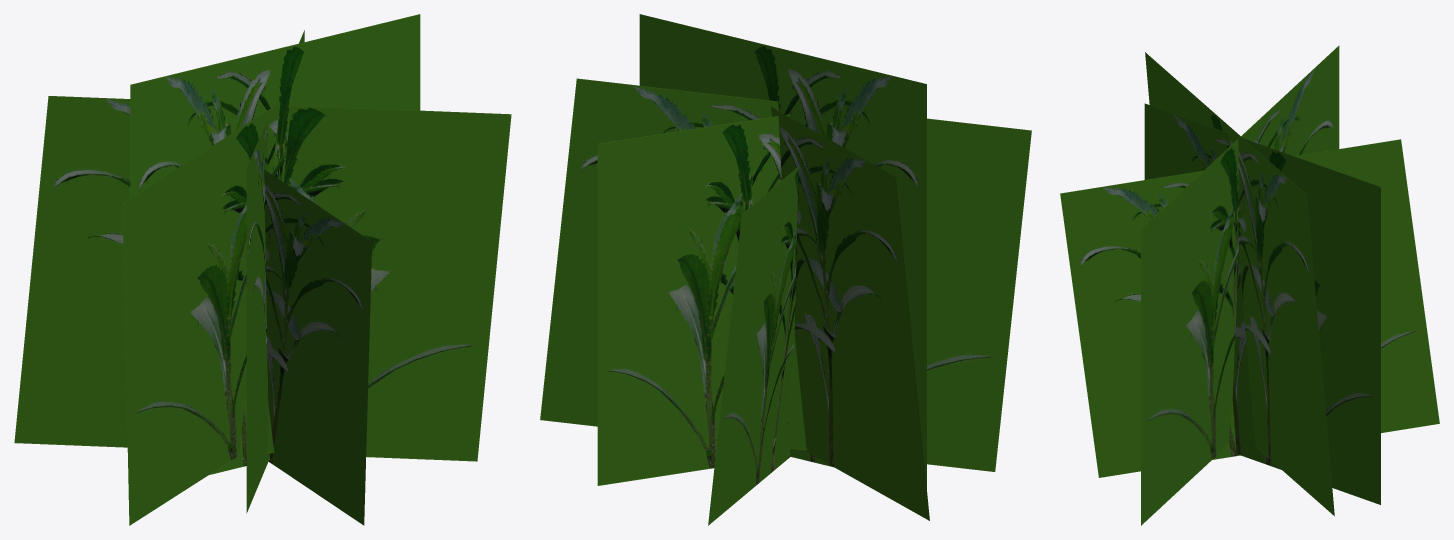
Rendered from gs_bush28.glb.
3 views of the same model, side by side, from view 1: azimuth 30°, elevation 25°; view 2: azimuth 150°, elevation 25°; view 3: azimuth 270°, elevation 25° (orthographic). The views are drawn at different scales.
Parts seen in each view (by area): view 1: Plane01; view 2: Plane01; view 3: Plane01.
Boxes of the visible parts, x1,y1,x2,y2 form: Plane01: (14, 14, 511, 525); Plane01: (540, 14, 1031, 525); Plane01: (1060, 45, 1439, 525).
Size of the model in its own units: 123 by 127 by 111.
1 material, 1 textured.
